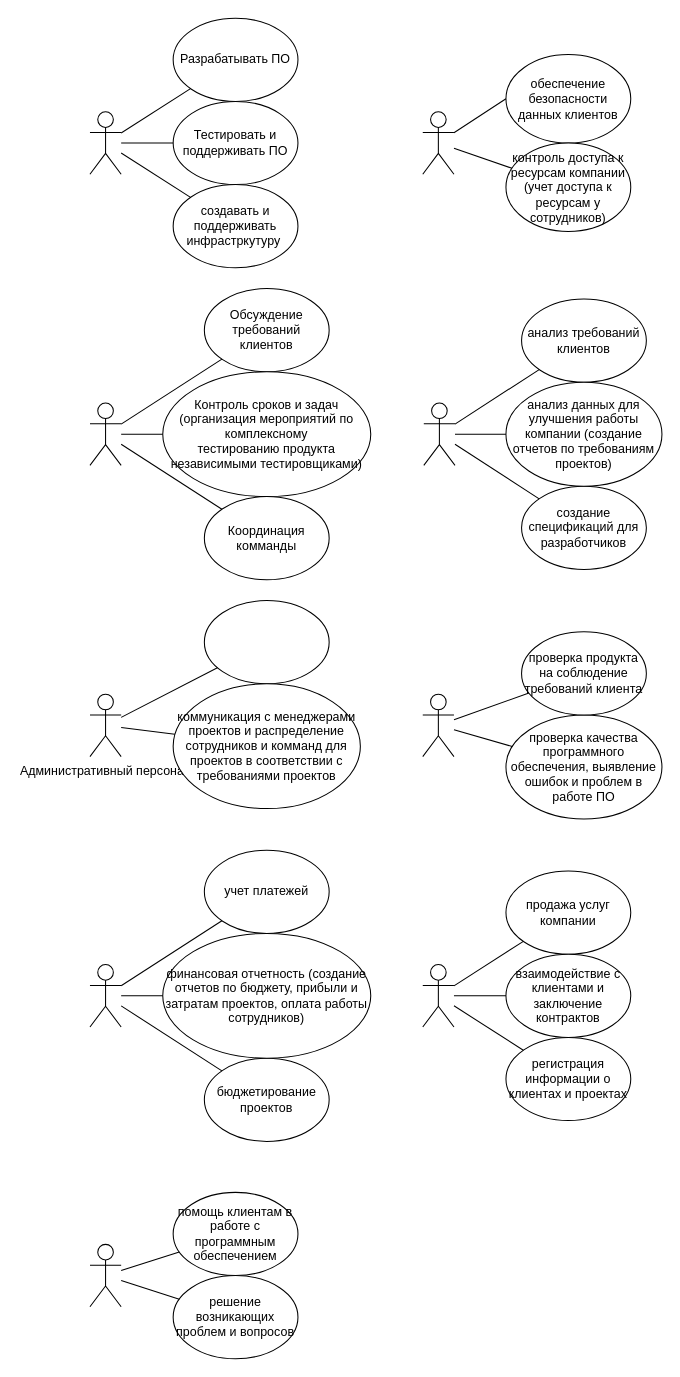
This 680x1377 diagram has some shape labels left out. The shapes that lost their labels are listed below. From the top down, each one's box as (x1, y1, x2, y2) in pixels, then its label:
(89, 111, 121, 174): Разработчик
(422, 111, 454, 174): Сотрудник безопасности
(89, 402, 121, 465): Менеджер проектов
(423, 402, 455, 465): Аналитик
(203, 600, 329, 684): Найм сотрудников
(422, 693, 454, 757): Тестировщик
(89, 964, 121, 1027): Финансовый отдел
(422, 964, 454, 1027): Сотрудник отдела продаж
(89, 1243, 121, 1307): Сотрудник службы поддержки
